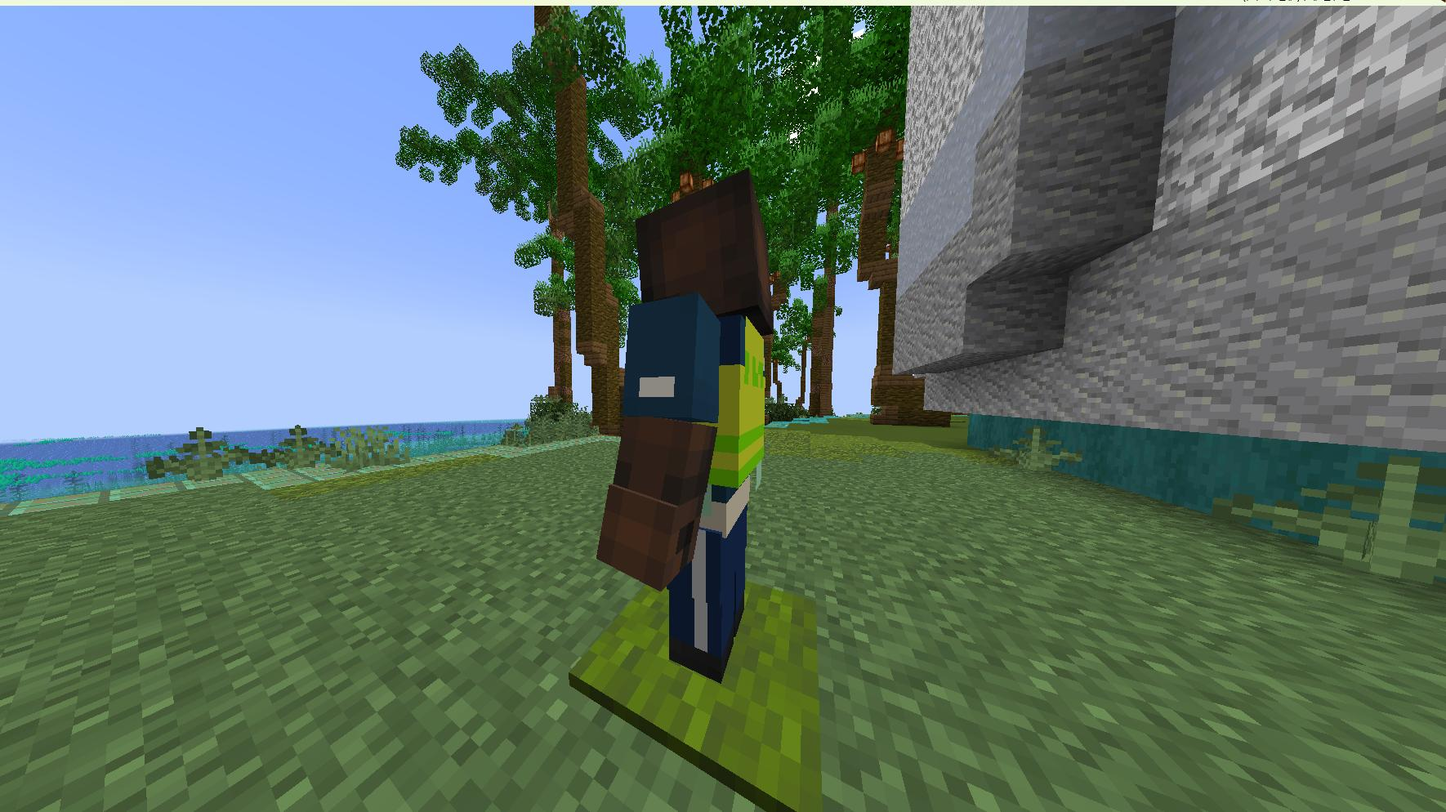Guardian: (597, 171, 773, 682)
